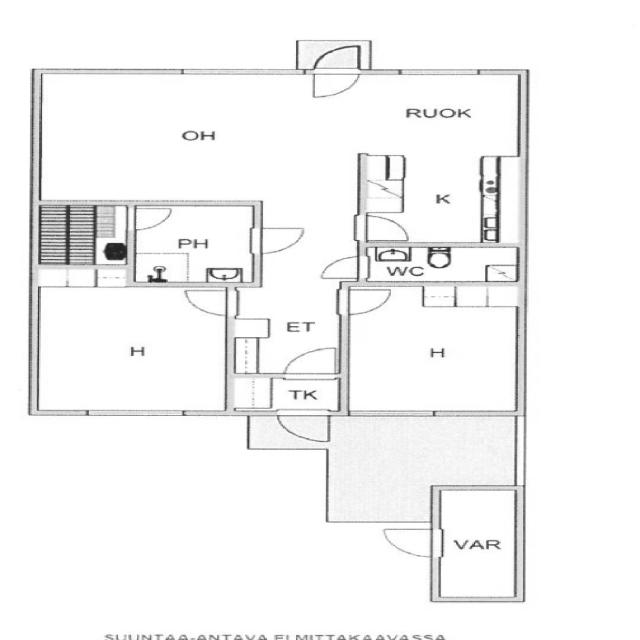door: (306, 43, 364, 101), (373, 524, 443, 560), (278, 344, 342, 381), (241, 222, 309, 256), (332, 285, 398, 317), (176, 285, 239, 318), (273, 410, 334, 444), (353, 212, 415, 244), (120, 204, 177, 234), (316, 253, 368, 281)
window: (495, 416, 538, 489), (75, 407, 198, 421), (173, 66, 303, 79), (341, 407, 447, 421), (395, 65, 487, 80)
zone: (28, 72, 346, 202), (28, 274, 234, 415), (358, 74, 524, 246), (344, 280, 526, 414), (129, 203, 258, 286), (435, 486, 521, 604), (360, 243, 524, 284), (32, 203, 130, 269)
